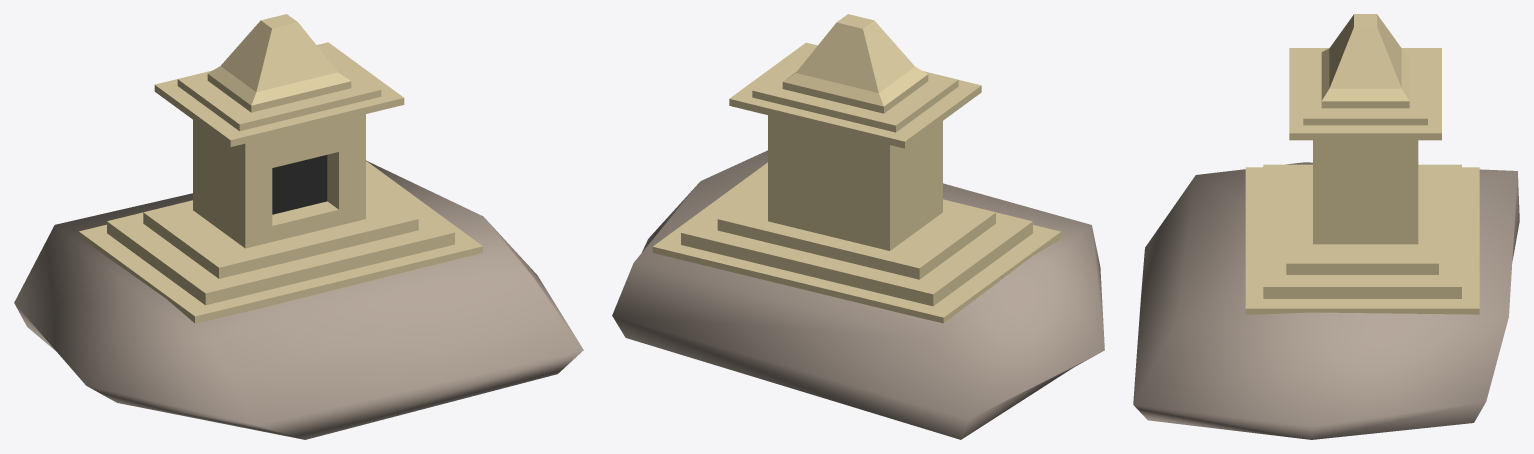
File: temple.fbx
The picture shows the model from 3 angles, left to right: view 1: azimuth 30°, elevation 25°; view 2: azimuth 150°, elevation 25°; view 3: azimuth 270°, elevation 25°; orthographic projection.
Visible parts, largest first — view 1: polySurface3018, polySurface3017; view 2: polySurface3017, polySurface3018; view 3: polySurface3018, polySurface3017.
Part boxes in pixels (x1,y1,x2,y2): polySurface3018: [14, 160, 583, 439]; polySurface3017: [79, 14, 482, 323]; polySurface3017: [652, 14, 1061, 323]; polySurface3018: [612, 150, 1104, 439]; polySurface3018: [1133, 162, 1519, 439]; polySurface3017: [1245, 14, 1479, 314].
Bounding box in the file's own units: 494 × 331 × 365.
